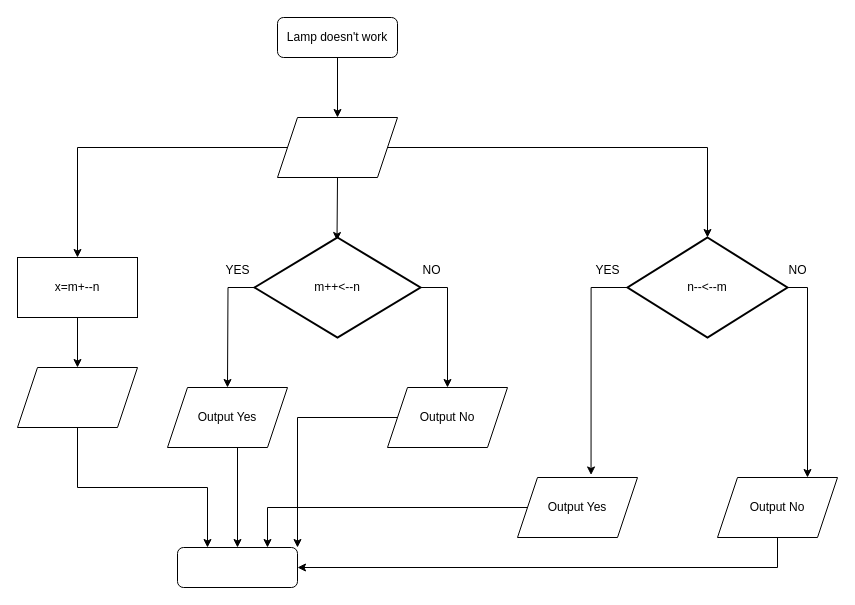
Image size: 855x605. Some labels were removed from this diagram. Each missing label, with the box of its shape:
End: (176, 546, 298, 588)
Input m Input n: (276, 116, 398, 178)
Output x: (16, 366, 138, 428)
